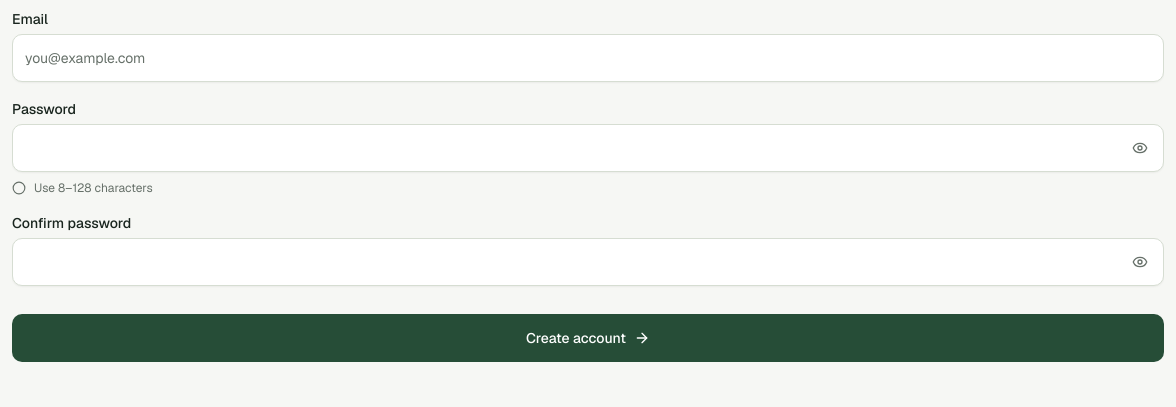
it: registration form › starts without errors, then gives live feedback after interaction
This screenshot has width=1176, height=407.
Expected: the text "Use 8–128 characters" is shown, top-left (12, 180), bottom-right (153, 196)
Type "invalid" into the field labelled "Email" at {"x": 588, "y": 58}, box top-left (12, 34), bottom-right (1164, 82)
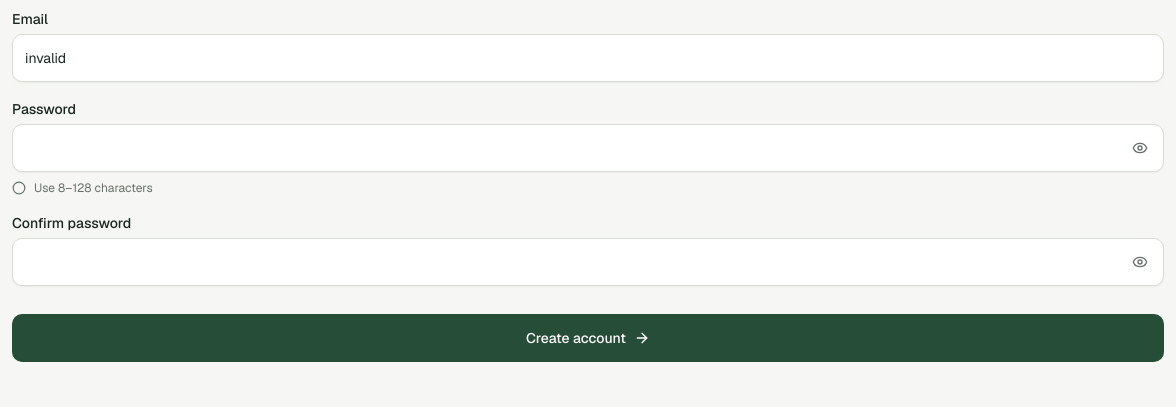
Leave the field labelled "Email", box top-left (12, 34), bottom-right (1164, 82)
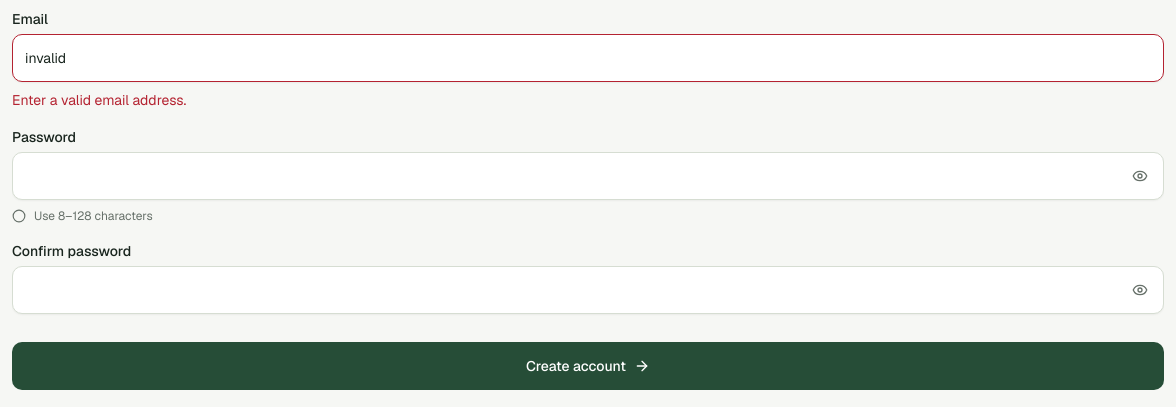
Expected: the text "Enter a valid email address." is shown, top-left (12, 91), bottom-right (186, 109)
Replace the text in the field labelled "Email" with "a@example.com" at {"x": 588, "y": 58}, box top-left (12, 34), bottom-right (1164, 82)
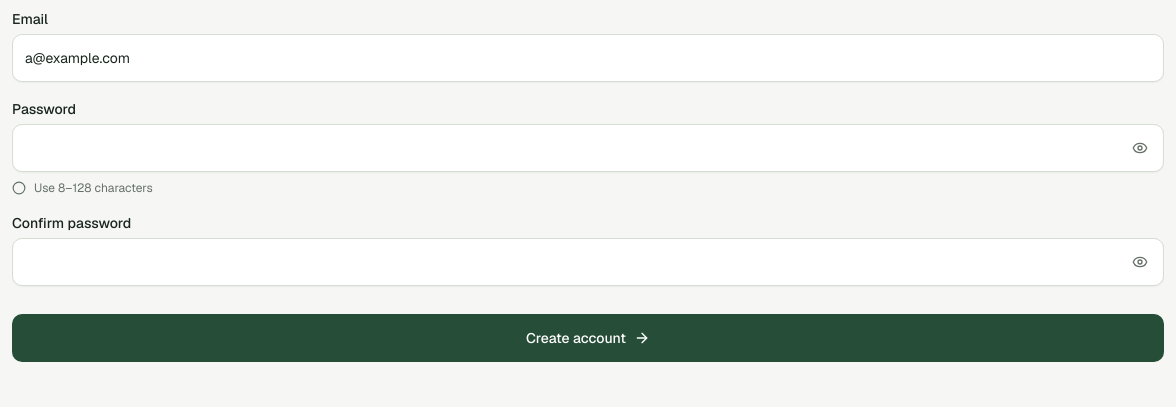
Expected: the text "Enter a valid email address." is gone
Type "abcdefgh" into the password field labelled "Password" at {"x": 588, "y": 148}, box top-left (12, 124), bottom-right (1164, 172)
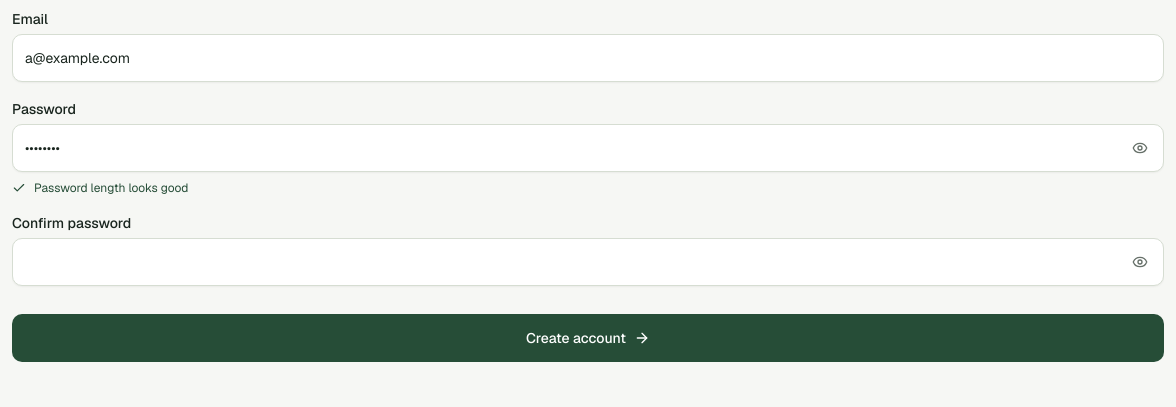
Expected: the text "Password length looks good" is shown, top-left (12, 180), bottom-right (188, 196)
